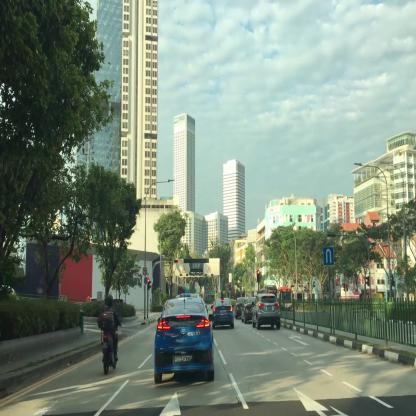red_traffic_light: (256, 270, 260, 282), (147, 278, 149, 290), (174, 259, 179, 263)
